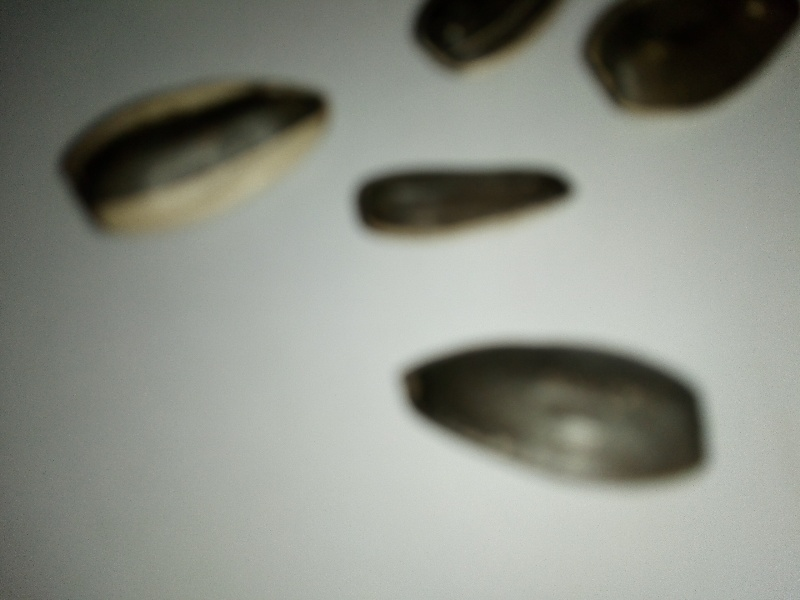w: (385, 334, 720, 501), (56, 57, 339, 241)
